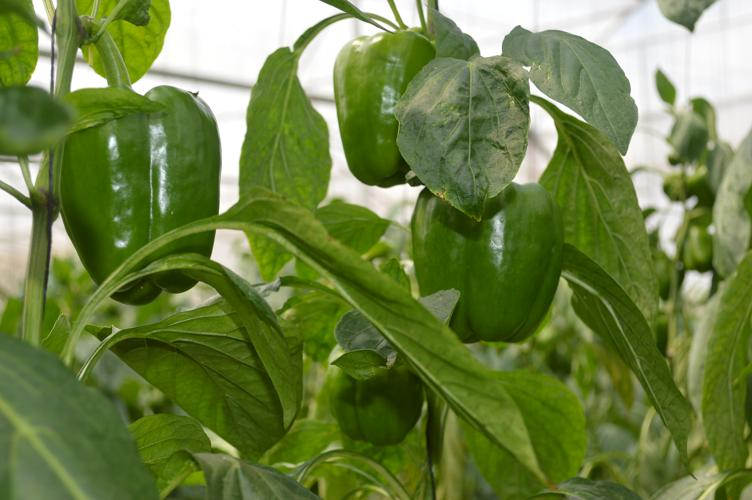BellPepper: (65, 86, 217, 298), (403, 182, 563, 352), (329, 28, 430, 181), (327, 360, 424, 452)
